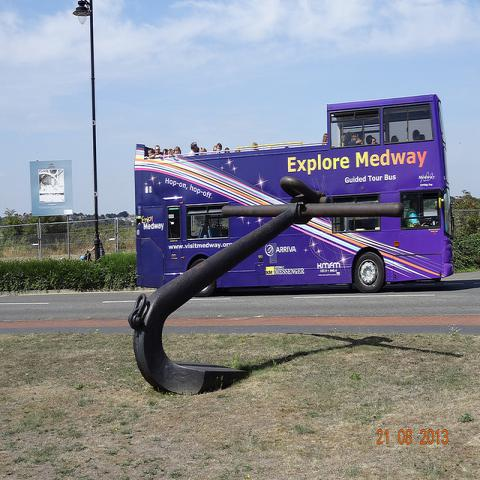bus: (137, 92, 451, 292)
